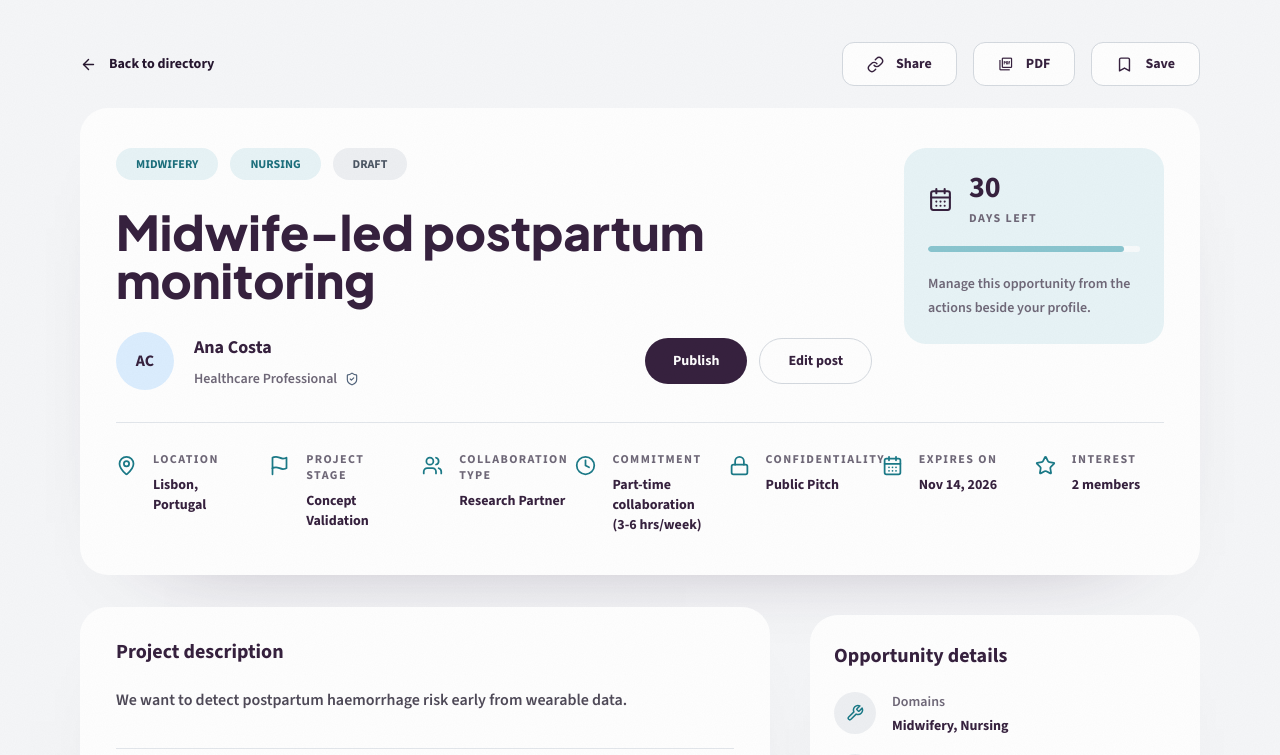
PostDetailPage › says why publishing a draft failed instead of doing nothing
Step 1. Click the button "Publish" → (696, 361), box [645,338,747,384]
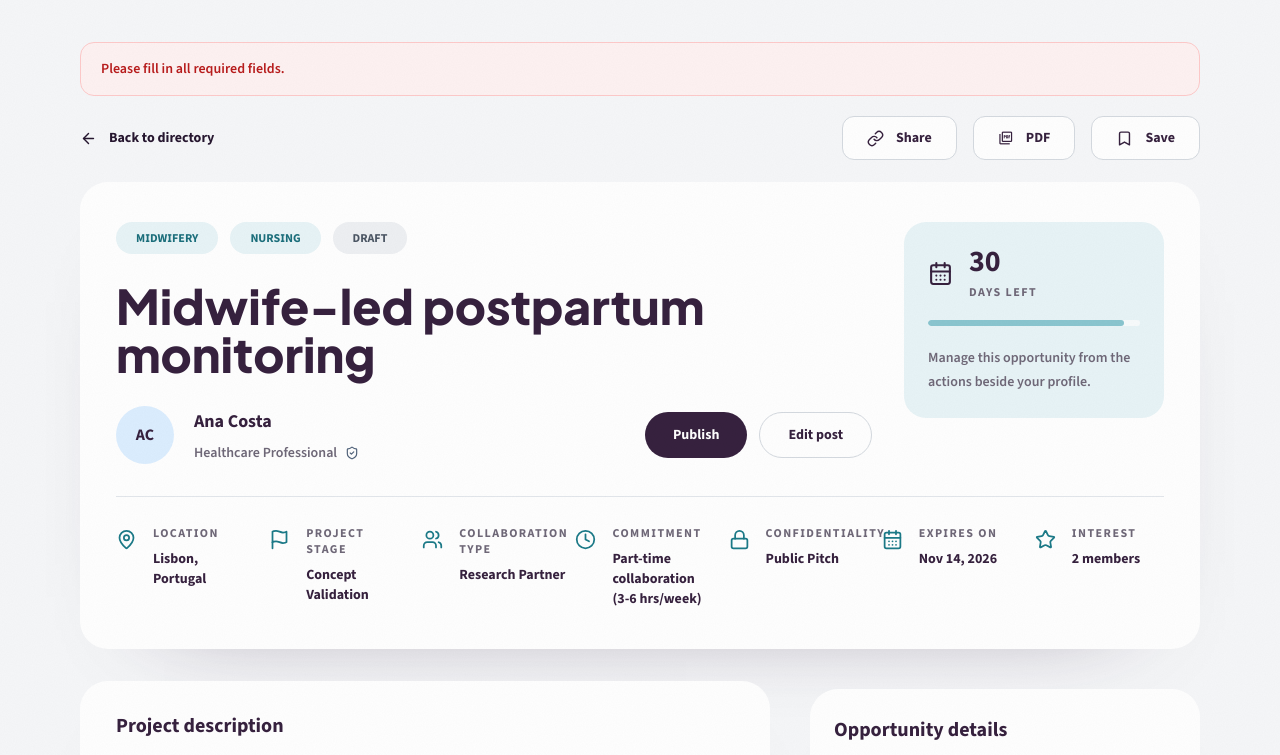
Result: the message reads "Please fill in all required fields." at [101,59,285,78]
